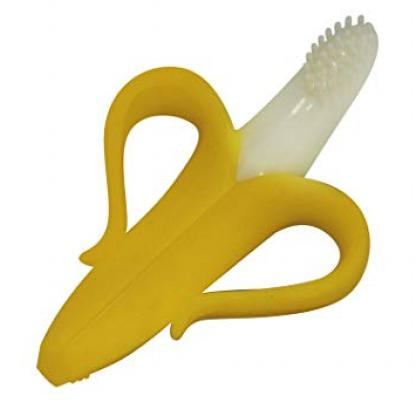banana: (22, 24, 395, 380)
